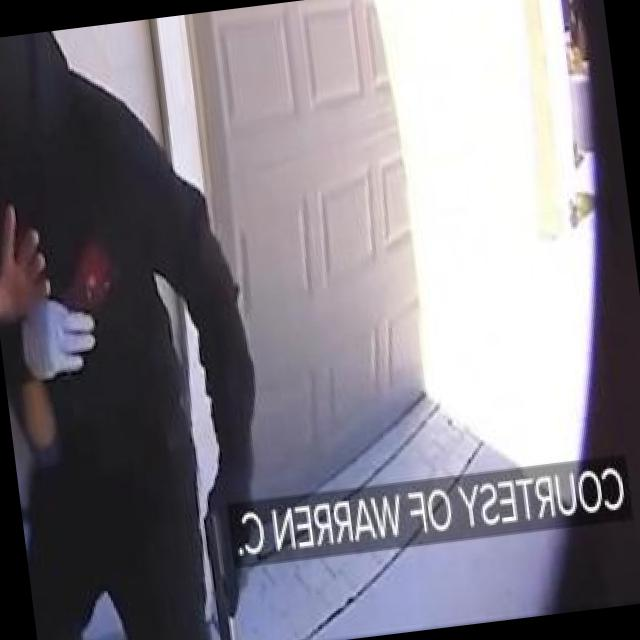Guns: (184, 491, 255, 640)
